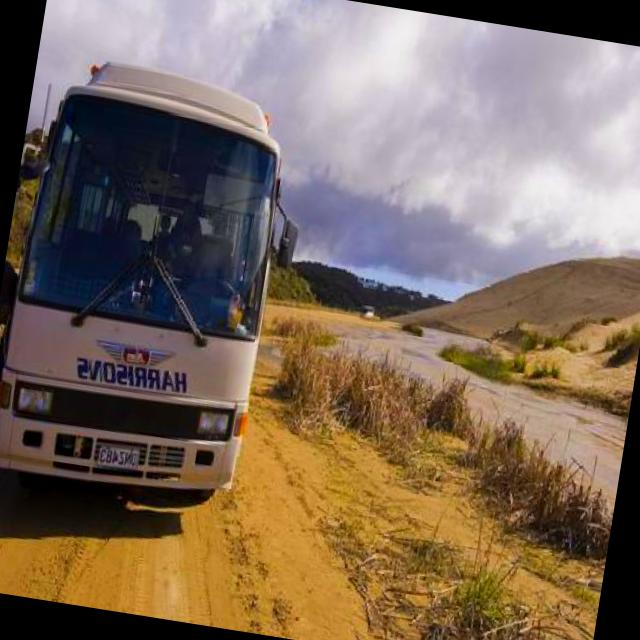Person: (0, 257, 23, 442), (165, 195, 208, 279), (145, 213, 181, 264), (118, 217, 140, 243)
